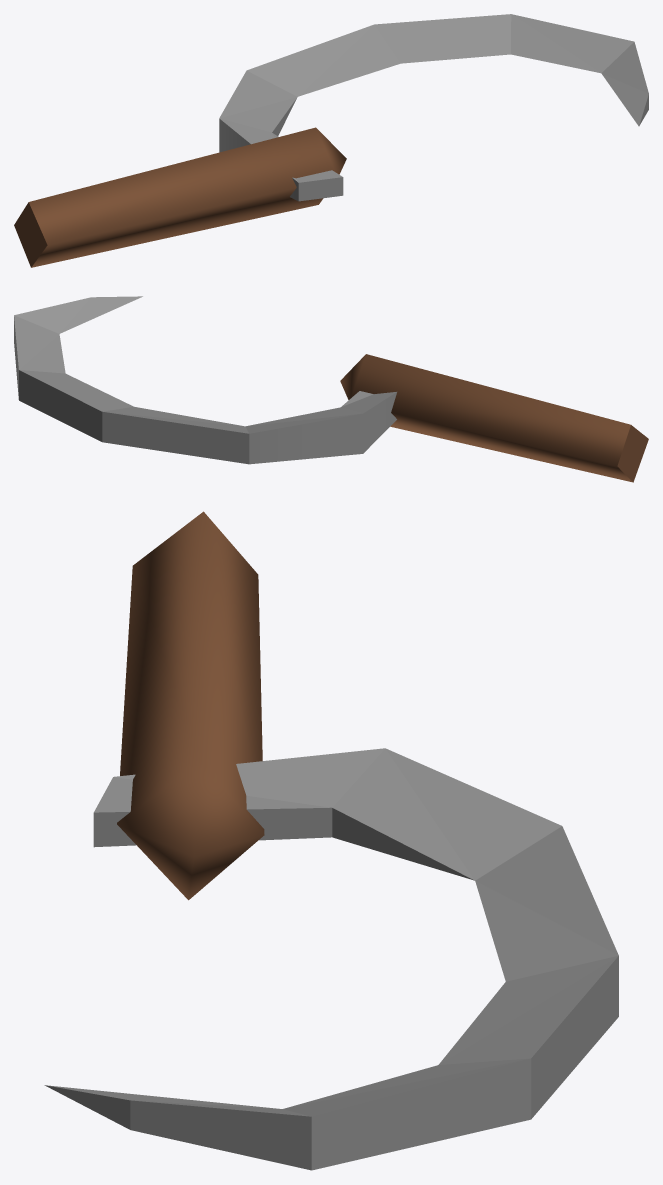
File: sickle.obj
3 views of the same model, one above another, from view 1: azimuth 30°, elevation 25°; view 2: azimuth 150°, elevation 25°; view 3: azimuth 270°, elevation 25° (orthographic). The views are drawn at different scales.
Parts seen in each view (by area): view 1: w_hammer_sickle; view 2: w_hammer_sickle; view 3: w_hammer_sickle.
Boxes of the visible parts, x1,y1,x2,y2 form: w_hammer_sickle: [14, 14, 648, 267]; w_hammer_sickle: [14, 296, 648, 482]; w_hammer_sickle: [44, 511, 618, 1170].
Size of the model in its own units: 1.06 by 0.1196 by 0.446.
